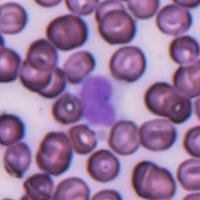M: (77, 74, 122, 126)
